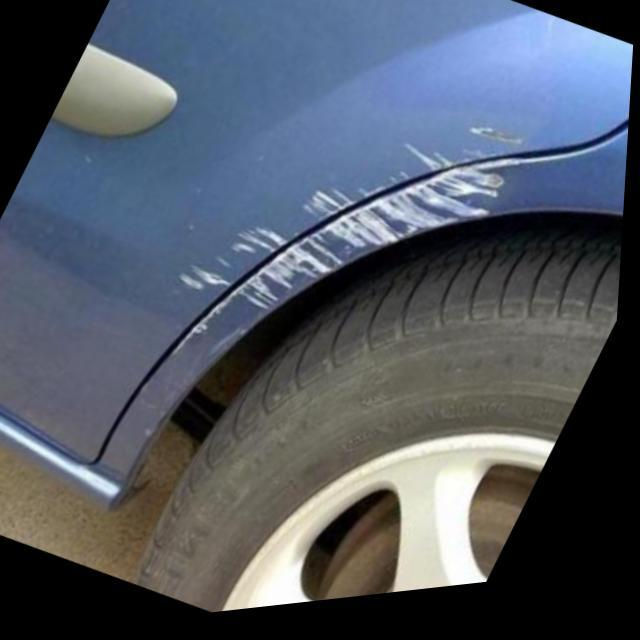rub: (183, 129, 529, 345)
